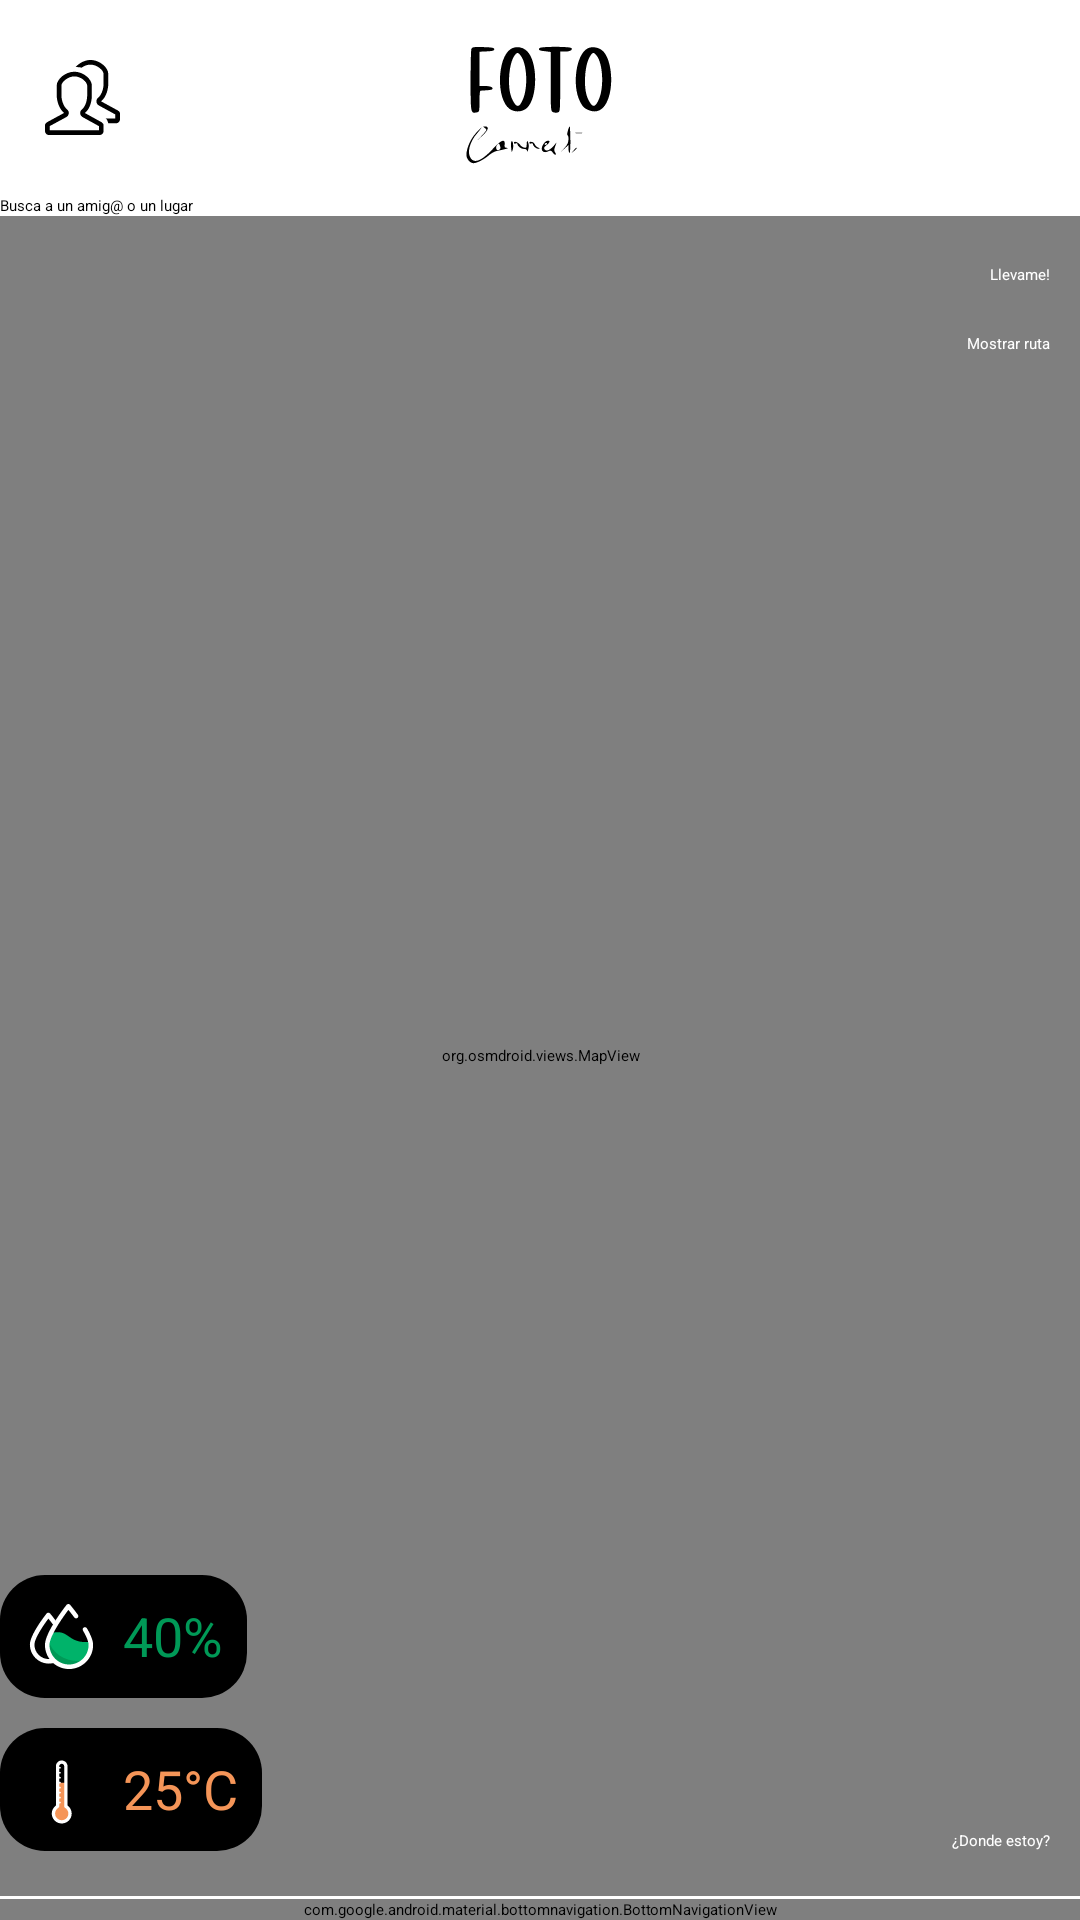

Icon bounding boxes for this 1080*1920 phone screenshot, format (x1, y1, x2, y2):
humidity: (30, 1604, 93, 1669)
people: (45, 60, 120, 135)
temperature: (51, 1760, 72, 1824)
